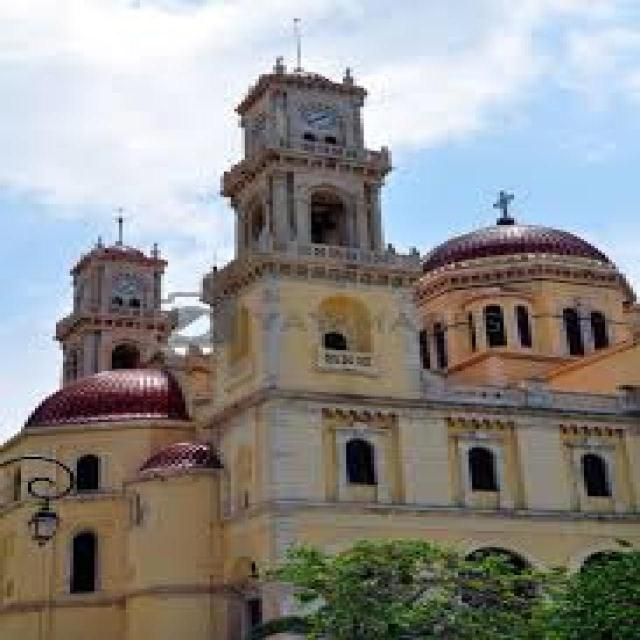Agios Minas: (7, 1, 640, 632)
